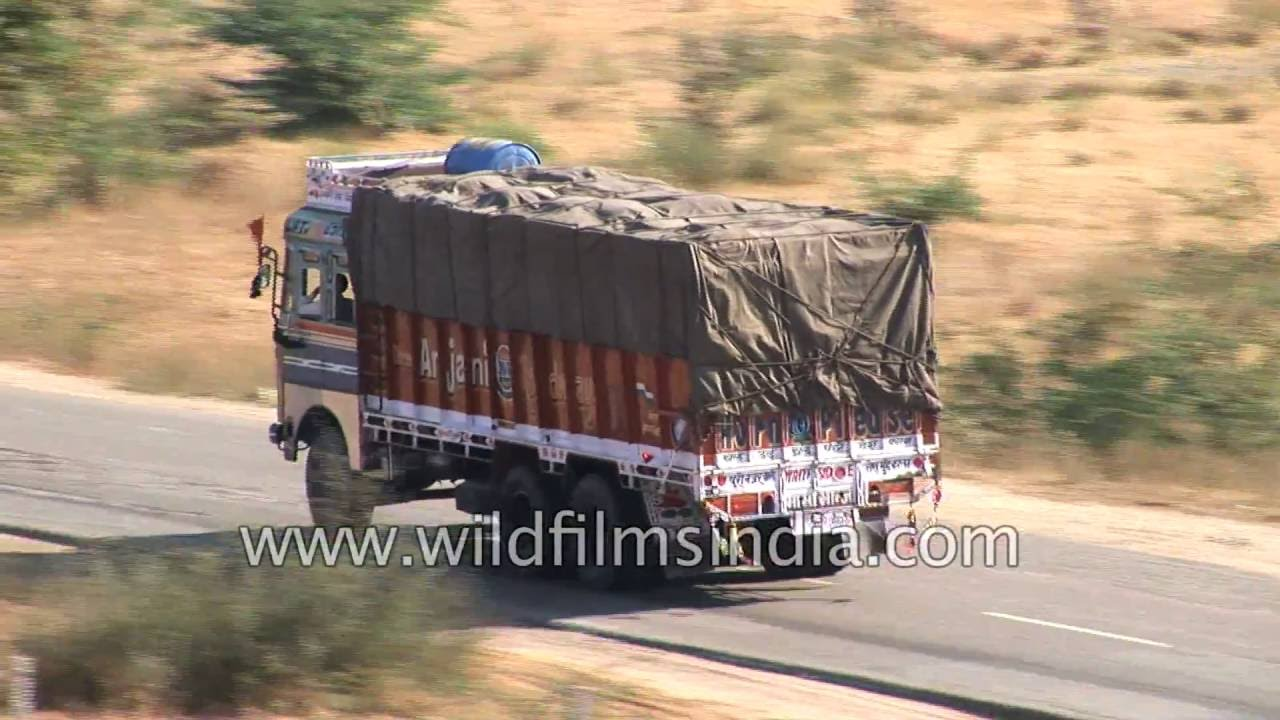truck: (277, 149, 933, 583)
